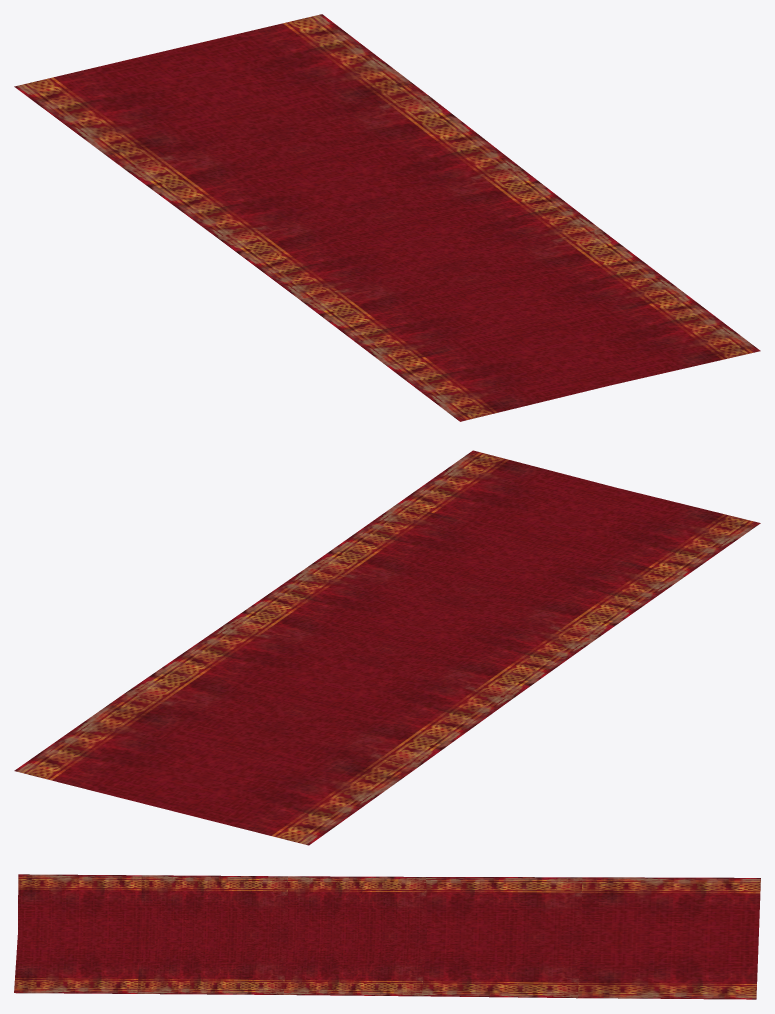
File: D_ditan.fbx
The picture shows the model from 3 angles, top to bottom: view 1: azimuth 30°, elevation 25°; view 2: azimuth 150°, elevation 25°; view 3: azimuth 270°, elevation 25°; orthographic projection. The views are drawn at different scales.
Visible parts, largest first — view 1: zuowei; view 2: zuowei; view 3: zuowei.
Part boxes in pixels (bbox=[...]): zuowei: bbox=[14, 14, 760, 421]; zuowei: bbox=[14, 450, 760, 845]; zuowei: bbox=[14, 874, 760, 999].
Size of the model in its own units: 16.08 by 0.00179 by 40.55.
